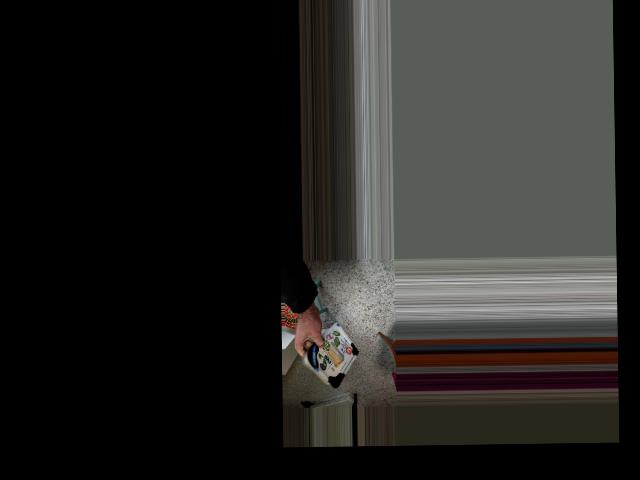cheese: (290, 332, 365, 387)
